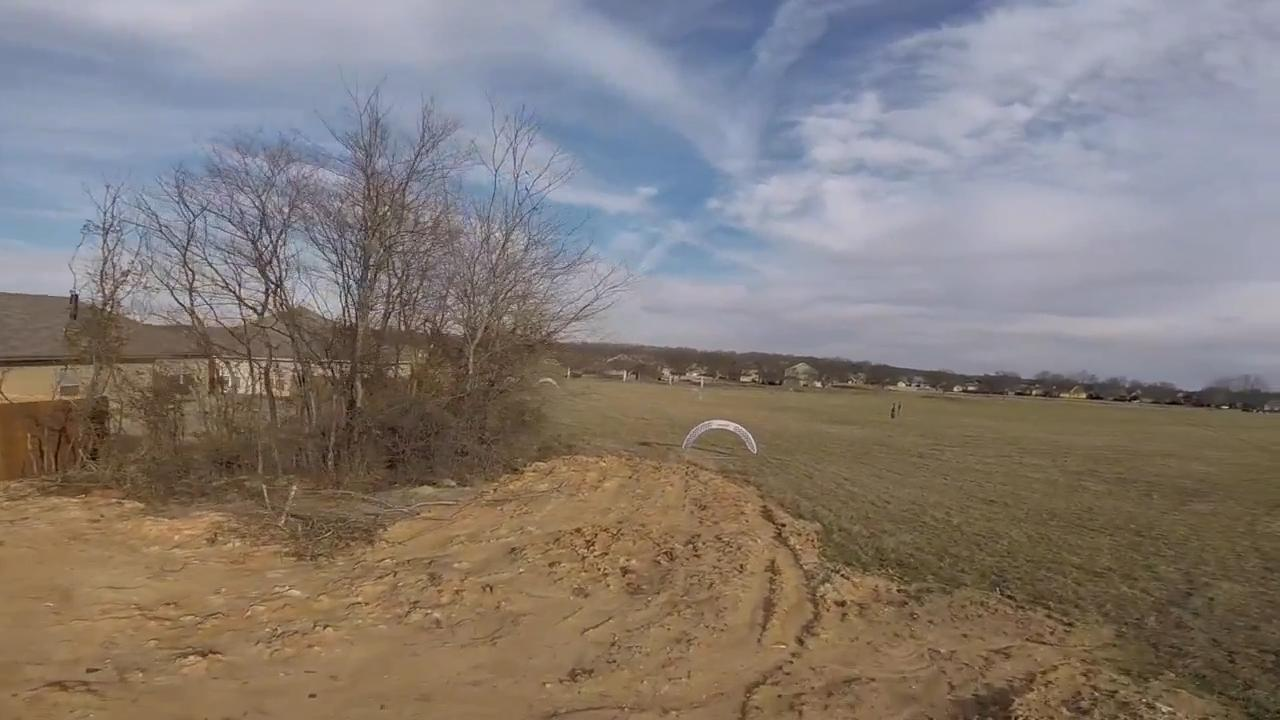gate: (682, 417, 760, 458)
